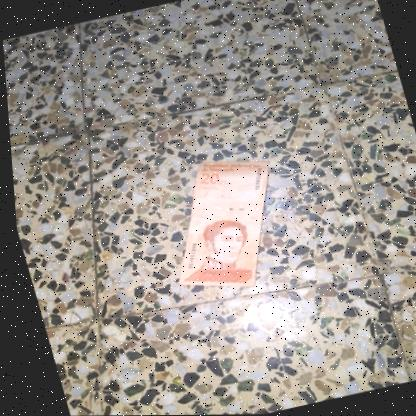twenty-front-vef: (142, 146, 301, 302)
